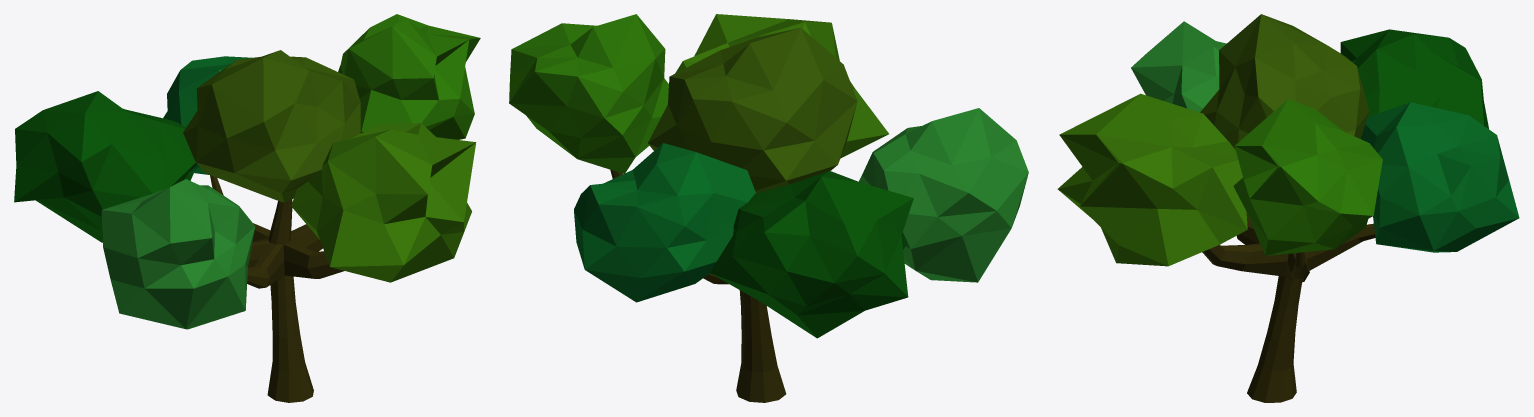
The model's file is tree_2.glb.
3 views of the same model, side by side, from view 1: azimuth 30°, elevation 25°; view 2: azimuth 150°, elevation 25°; view 3: azimuth 270°, elevation 25° (orthographic). The views are drawn at different scales.
Visible parts, largest first — view 1: Icosphere004, Icosphere, Icosphere002, Icosphere001, Icosphere003, Cylinder, Icosphere005; view 2: Icosphere001, Icosphere, Icosphere005, Icosphere002, Icosphere003, Icosphere004, Cylinder; view 3: Icosphere004, Icosphere005, Icosphere003, Icosphere, Icosphere001, Cylinder, Icosphere002.
Boxes of the visible parts, <box> form: Icosphere004: <box>291,123,476,282</box>; Icosphere: <box>183,50,360,202</box>; Icosphere002: <box>101,179,255,329</box>; Icosphere001: <box>14,91,197,242</box>; Icosphere003: <box>338,14,480,139</box>; Cylinder: <box>210,175,343,402</box>; Icosphere005: <box>163,56,252,174</box>; Icosphere001: <box>710,170,913,338</box>; Icosphere: <box>648,28,857,193</box>; Icosphere005: <box>574,143,755,302</box>; Icosphere002: <box>859,108,1028,282</box>; Icosphere003: <box>509,14,668,173</box>; Icosphere004: <box>675,14,888,158</box>; Cylinder: <box>610,170,786,402</box>; Icosphere004: <box>1057,93,1247,266</box>; Icosphere005: <box>1361,102,1519,252</box>; Icosphere003: <box>1233,99,1382,255</box>; Icosphere: <box>1200,14,1369,149</box>; Icosphere001: <box>1340,29,1488,128</box>; Cylinder: <box>1202,213,1375,402</box>; Icosphere002: <box>1131,21,1226,112</box>.
Size of the model in its own units: 40.59 by 32 by 36.99.
